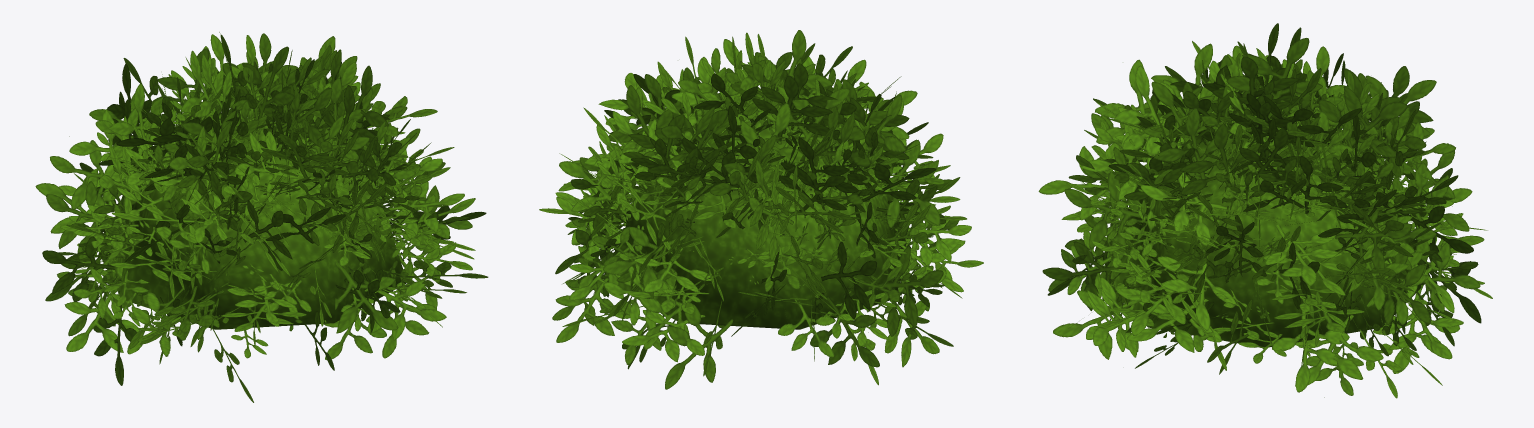
File: Bush 2.fbx
The picture shows the model from 3 angles, left to right: view 1: azimuth 30°, elevation 25°; view 2: azimuth 150°, elevation 25°; view 3: azimuth 270°, elevation 25°; orthographic projection. The views are drawn at different scales.
Parts seen in each view (by area): view 1: 4515ab5b-60c9-405a-976c-407aa90f47d5.001; view 2: 4515ab5b-60c9-405a-976c-407aa90f47d5.001; view 3: 4515ab5b-60c9-405a-976c-407aa90f47d5.001.
Boxes of the visible parts, x1,y1,x2,y2 form: 4515ab5b-60c9-405a-976c-407aa90f47d5.001: [35, 32, 488, 402]; 4515ab5b-60c9-405a-976c-407aa90f47d5.001: [539, 30, 983, 389]; 4515ab5b-60c9-405a-976c-407aa90f47d5.001: [1038, 23, 1492, 398].
Bounding box in the file's own units: 408 × 300 × 388.
